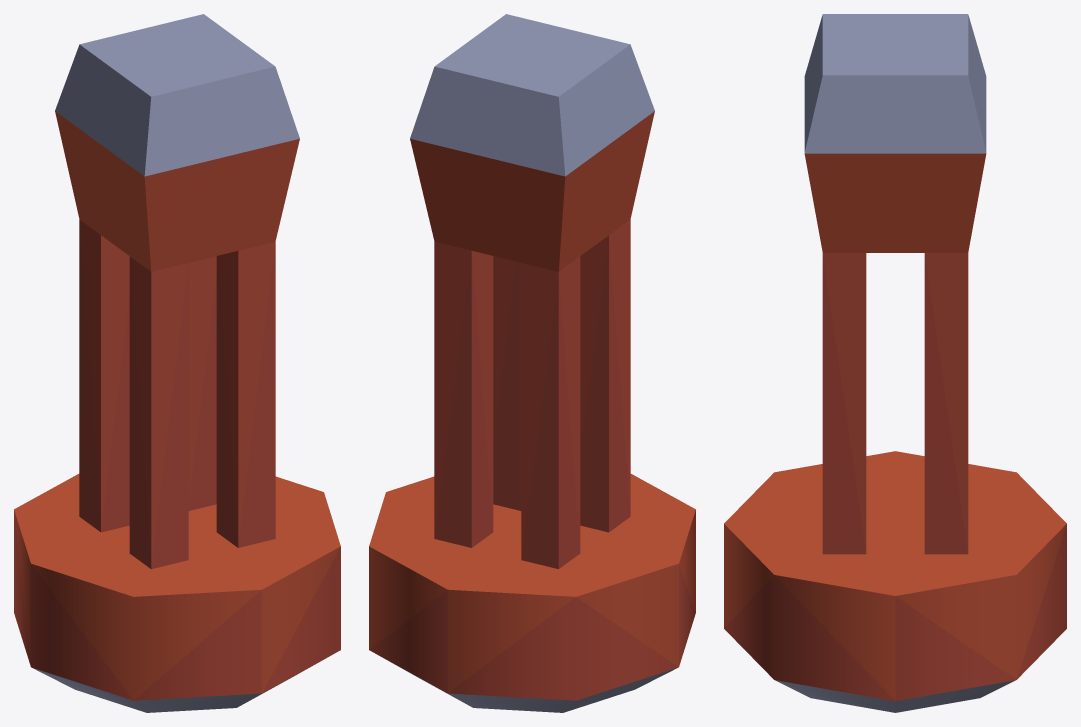
Rendered from watercraft_buoy.glb.
3 renders of one model, left to right at view 1: azimuth 30°, elevation 25°; view 2: azimuth 150°, elevation 25°; view 3: azimuth 270°, elevation 25°, orthographic.
Visible parts, largest first — view 1: watercraft_buoy; view 2: watercraft_buoy; view 3: watercraft_buoy.
Part boxes in pixels (<box>): watercraft_buoy: <box>14,14,340,712</box>; watercraft_buoy: <box>369,14,695,712</box>; watercraft_buoy: <box>724,14,1066,712</box>.
Bounding box in the file's own units: 0.9282 × 1.84 × 0.9282.
